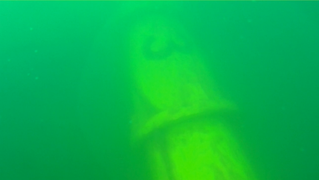3: (141, 32, 193, 60)
pipe: (117, 1, 258, 179)
